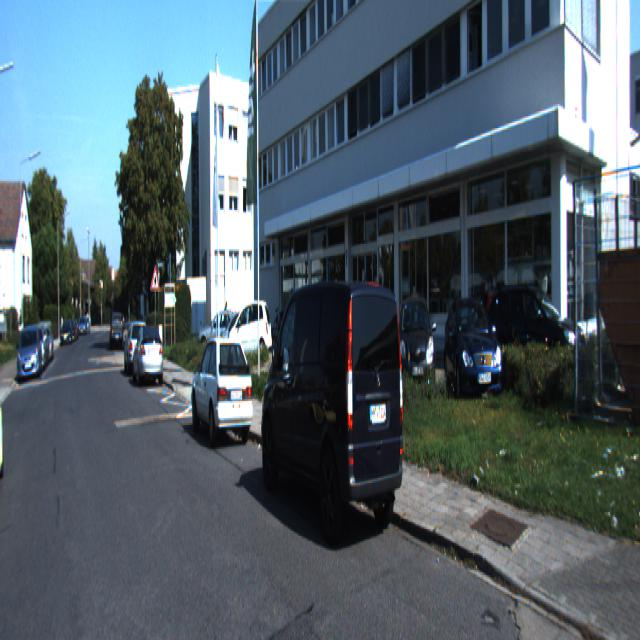Car: (256, 265, 409, 566), (443, 293, 505, 420), (188, 333, 254, 452), (394, 293, 439, 412), (224, 298, 272, 366), (131, 324, 163, 388), (18, 326, 42, 382), (107, 311, 121, 351)
